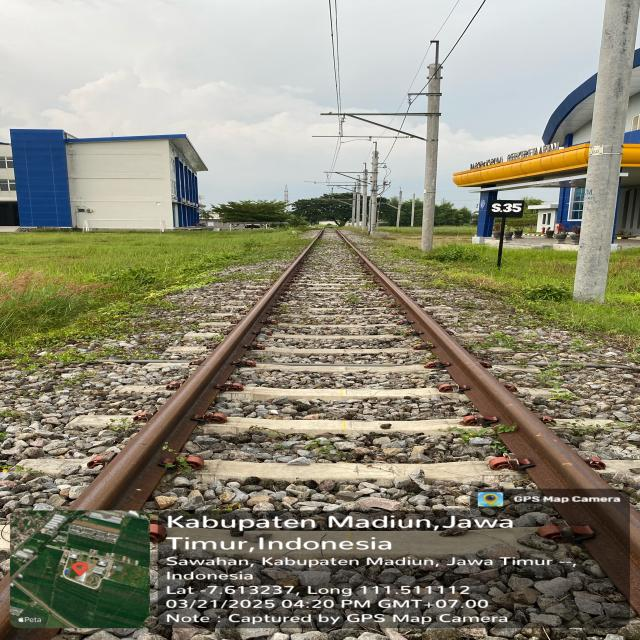rail-detection: (336, 229, 640, 610), (70, 228, 323, 510)
